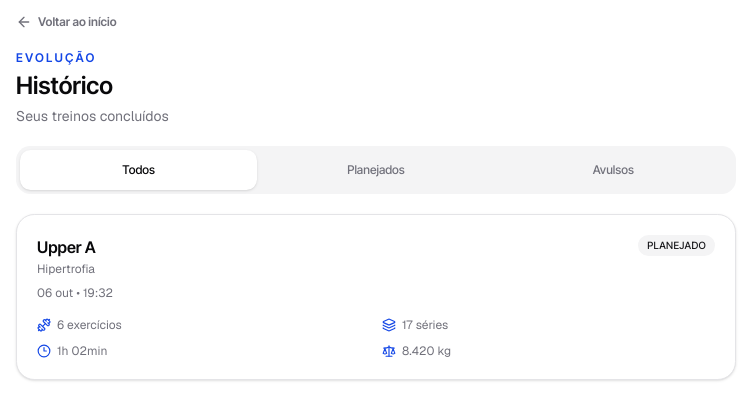
Test: Workout history UI — Task 3.5 › distingue empty global de empty por filtro
Step 1. Click the button "Avulsos" → (613, 170), box [495, 150, 732, 190]
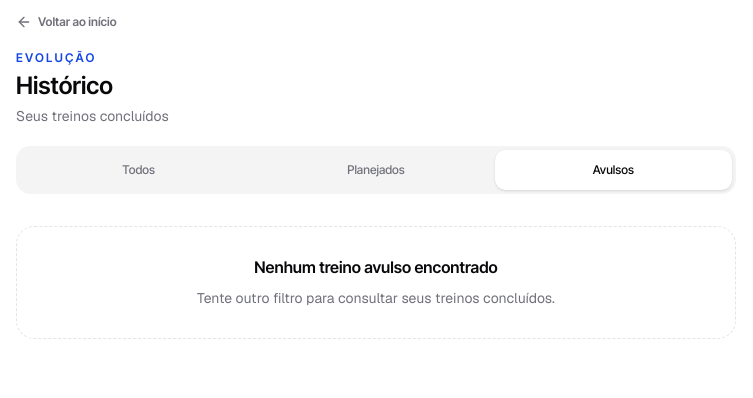
Result: the heading "Nenhum treino avulso encontrado" is shown at [254, 257, 498, 277]
